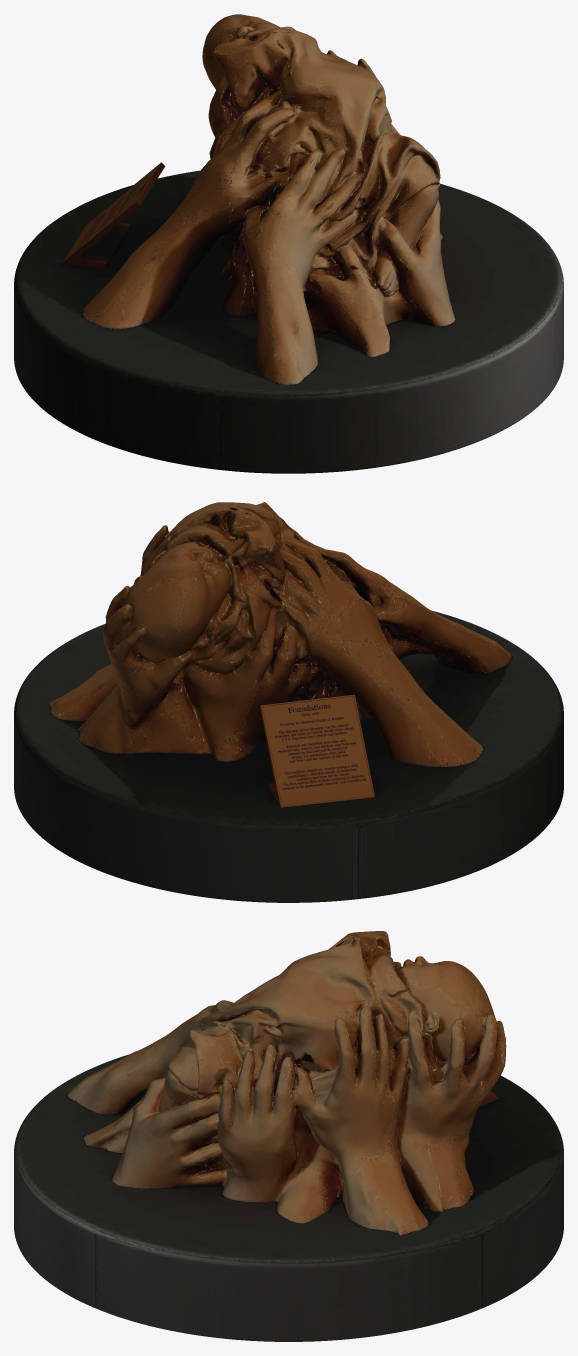
File: westwing.glb
3 views of the same model, one above another, from view 1: azimuth 30°, elevation 25°; view 2: azimuth 150°, elevation 25°; view 3: azimuth 270°, elevation 25° (orthographic).
Parts seen in each view (by area): view 1: base, Main, plaque; view 2: base, Main, plaque; view 3: Main, base.
Boxes of the visible parts, box(x1,y1,x2,y2) form: base: box(14, 170, 563, 473); Main: box(82, 14, 455, 384); plaque: box(61, 162, 165, 268); base: box(14, 611, 563, 902); Main: box(48, 502, 511, 766); plaque: box(260, 694, 374, 807); Main: box(67, 931, 506, 1235); base: box(14, 1054, 563, 1341).
Bounding box in the file's own units: 6.17 × 3.68 × 6.17.
Materials: 3 (3 with a texture image).
